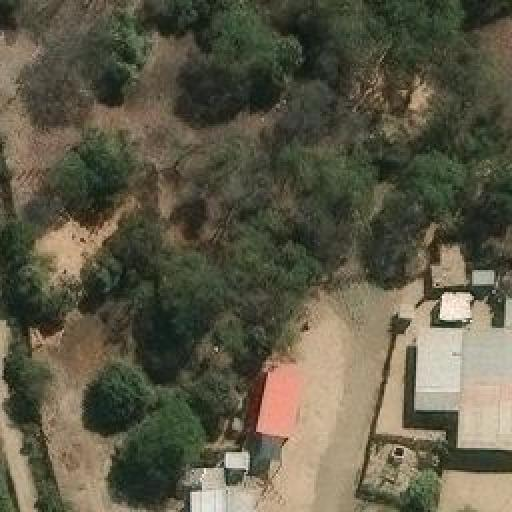manzanas: (349, 237, 510, 510), (169, 364, 312, 510)
